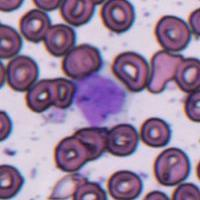M: (73, 72, 127, 127)
